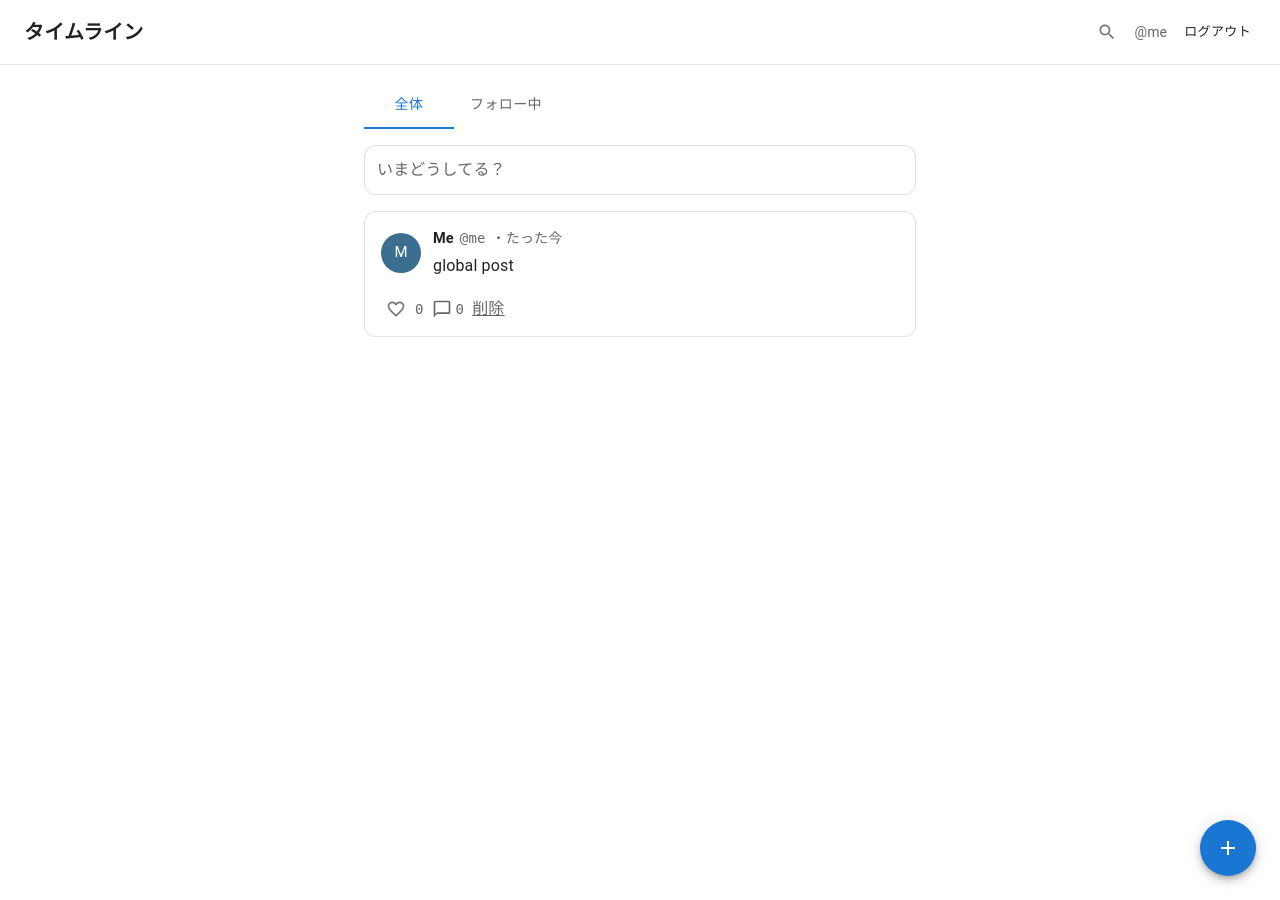
Test: TimelinePage › shows an empty state when the following timeline has no posts
The width and height of the screenshot is (1280, 900).
expect the text "global post" is shown: met, box [433,256,514,275]
What coordinates should you click on to do the following:
click the tab "フォロー中"
I would click on:
 (506, 105)
Its box is [454,81,558,129].
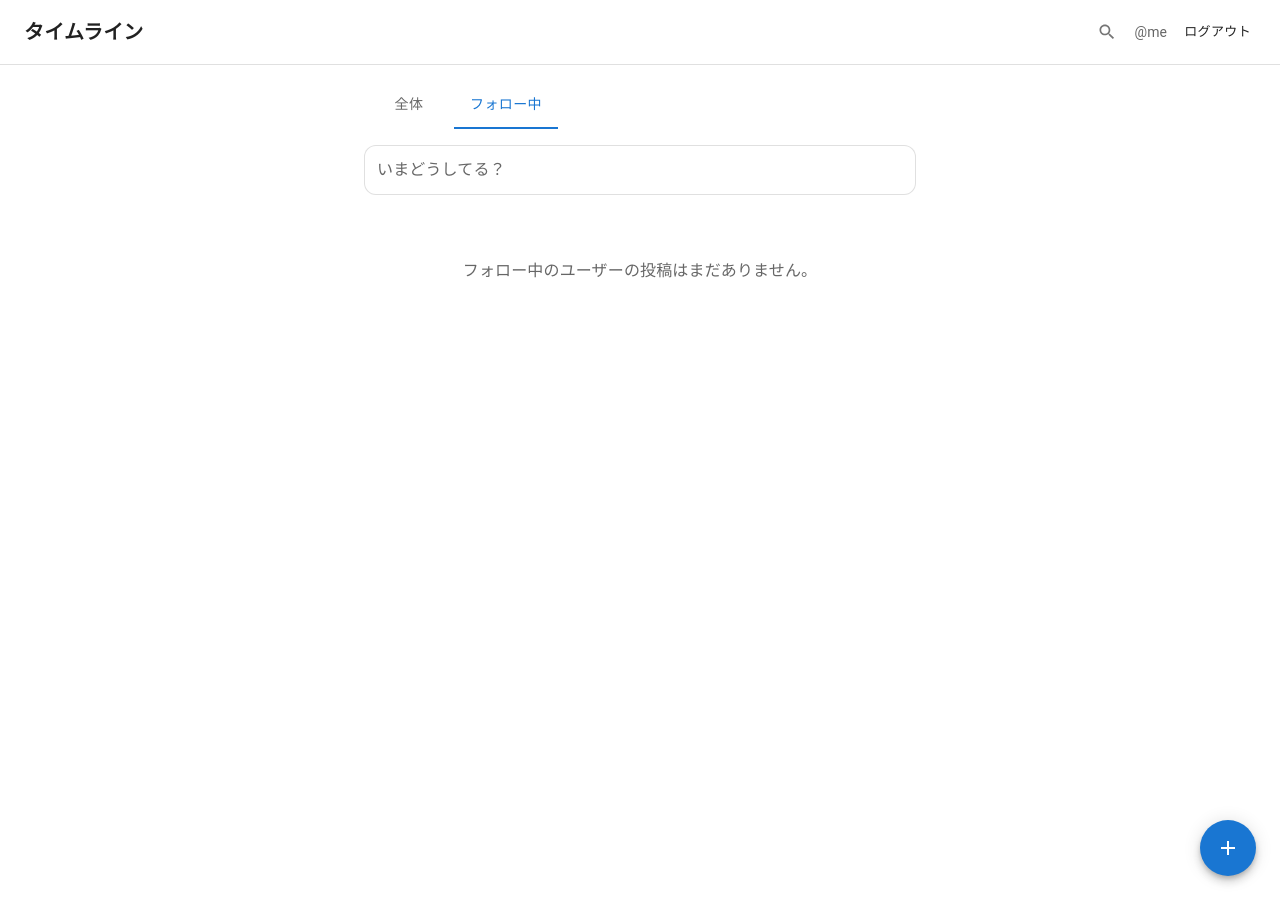
expect the text "フォロー中のユーザーの投稿はまだありません。" is shown: met, box [463,261,817,280]
